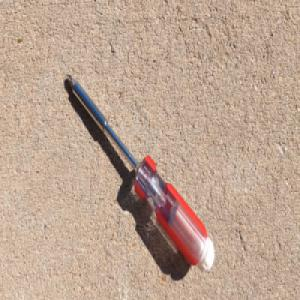Screwdriver: (64, 70, 216, 275)
